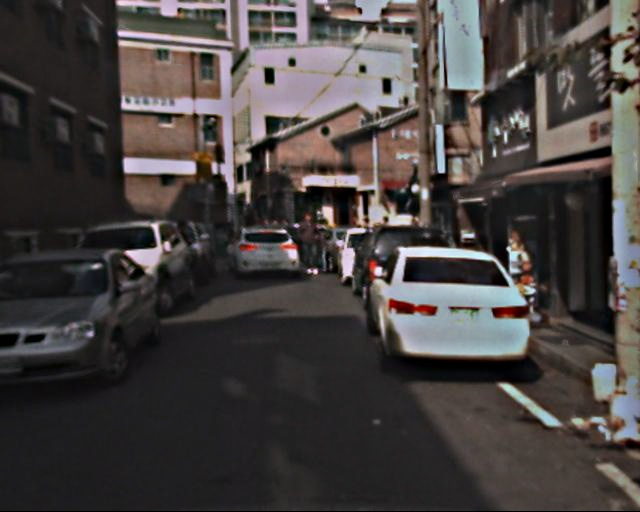person: (296, 211, 322, 275), (314, 218, 337, 274)
